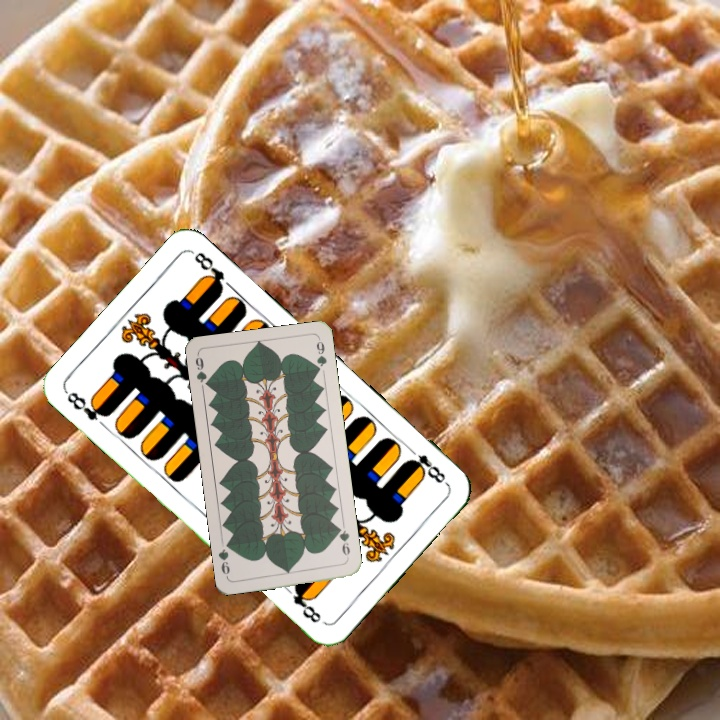E8: (402, 443, 451, 488), (62, 387, 112, 424)
G9: (191, 351, 213, 391), (334, 523, 353, 563)
